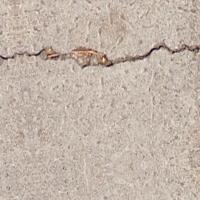crack: (3, 25, 199, 77)
